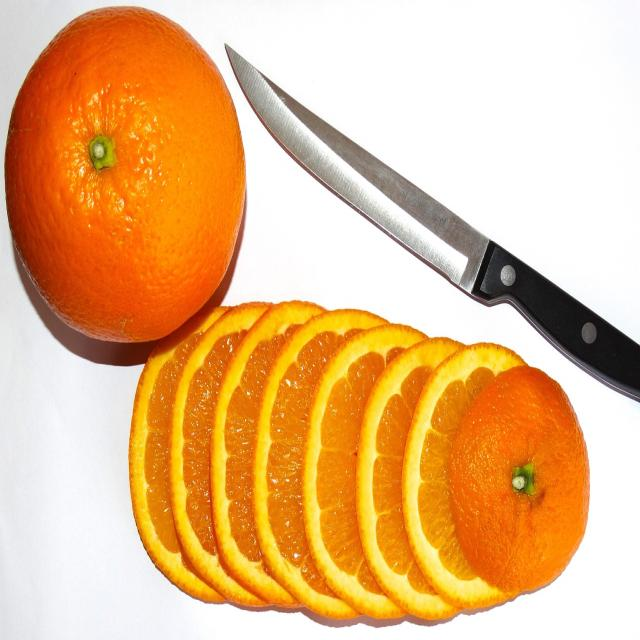Knife: (227, 46, 640, 396)
